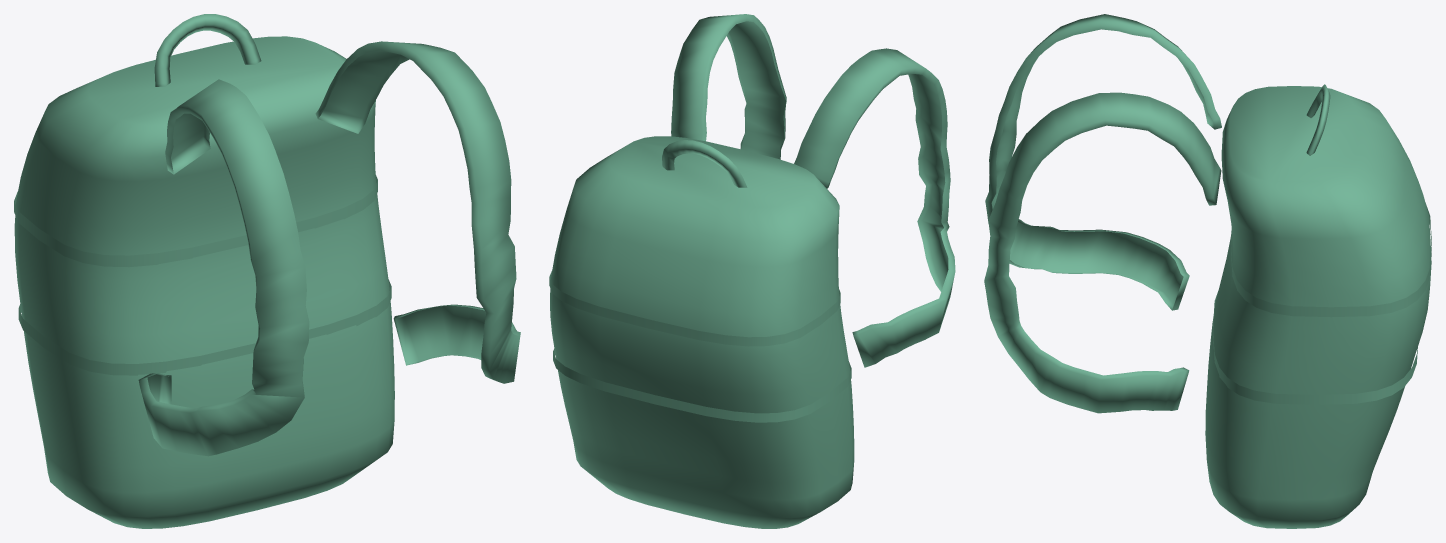
The model's file is Char2_Backpack.fbx.
3 renders of one model, left to right at view 1: azimuth 30°, elevation 25°; view 2: azimuth 150°, elevation 25°; view 3: azimuth 270°, elevation 25°, orthographic. The views are drawn at different scales.
Visible parts, largest first — view 1: Char2_Backpack; view 2: Char2_Backpack; view 3: Char2_Backpack.
Part boxes in pixels (x1,y1,x2,y2): Char2_Backpack: [14, 14, 520, 528]; Char2_Backpack: [549, 14, 955, 528]; Char2_Backpack: [984, 14, 1431, 528].
Bounding box in the file's own units: 0.3886 × 0.5074 × 0.4895.
